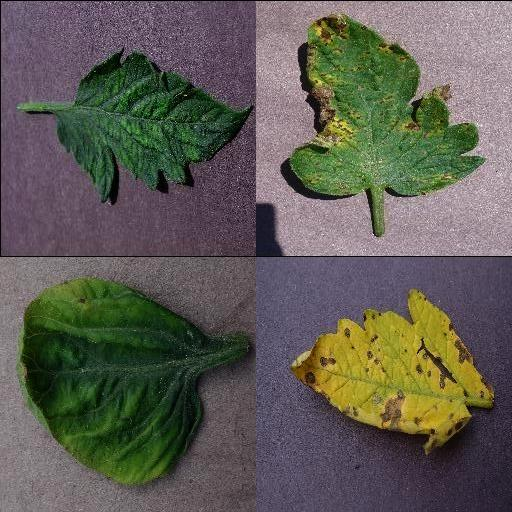Mosaic Virus: (54, 47, 252, 206)
Septoria: (291, 12, 486, 198), (288, 286, 494, 456)
Yellow Leaf Curl Virus: (17, 279, 199, 483)
